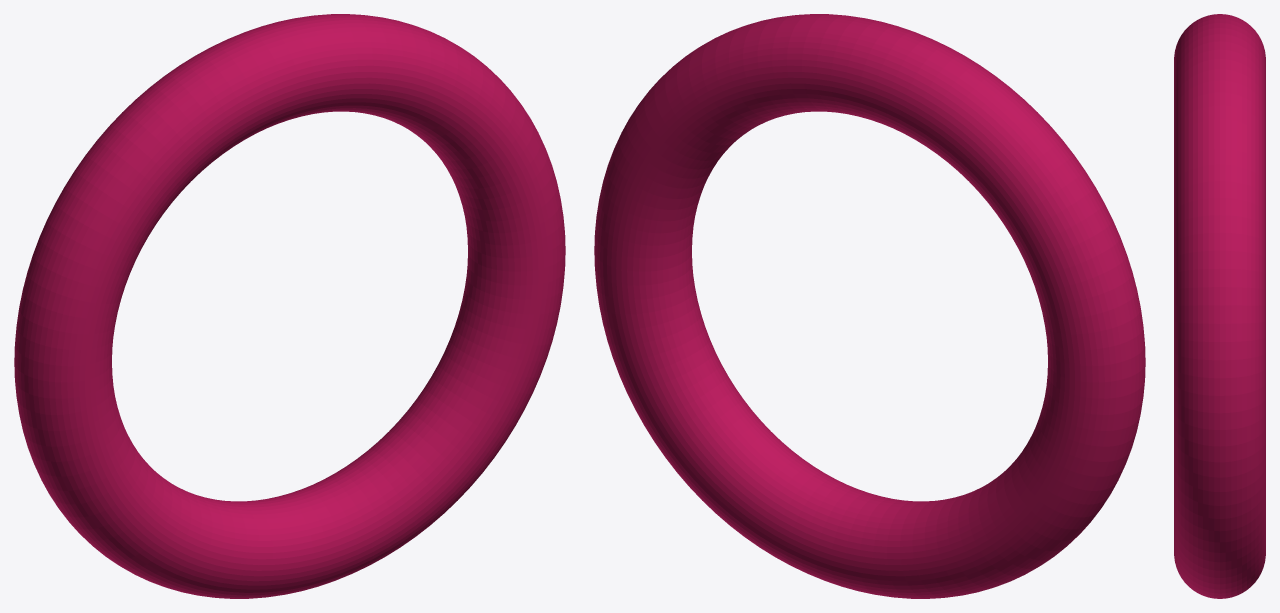
The picture shows the model from 3 angles, left to right: view 1: azimuth 30°, elevation 25°; view 2: azimuth 150°, elevation 25°; view 3: azimuth 270°, elevation 25°; orthographic projection. The views are drawn at different scales.
Parts seen in each view (by area): view 1: world; view 2: world; view 3: world.
Boxes of the visible parts, x1,y1,x2,y2 form: world: (14, 14, 565, 598); world: (594, 14, 1145, 598); world: (1174, 14, 1265, 598).
Bounding box in the file's own units: 34.8 × 34.8 × 5.46.
